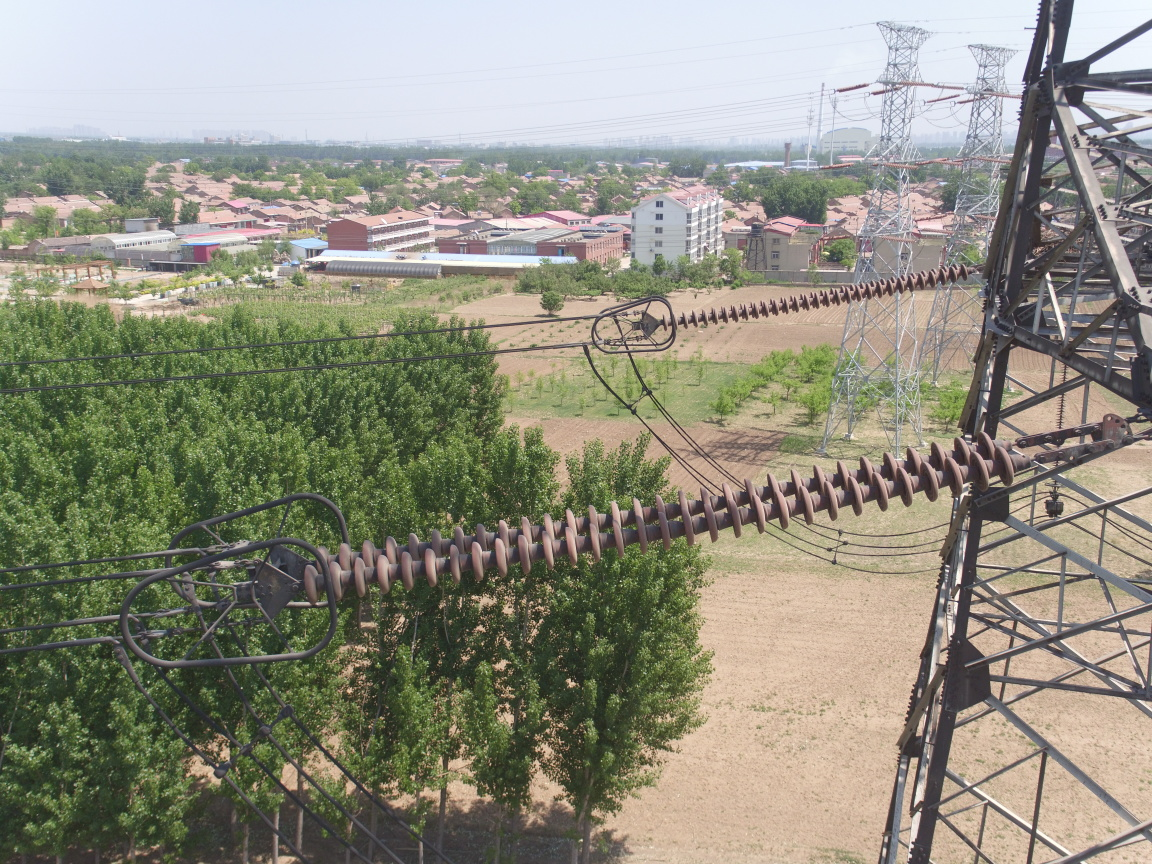insulator: (275, 420, 1077, 607), (656, 251, 986, 334)
